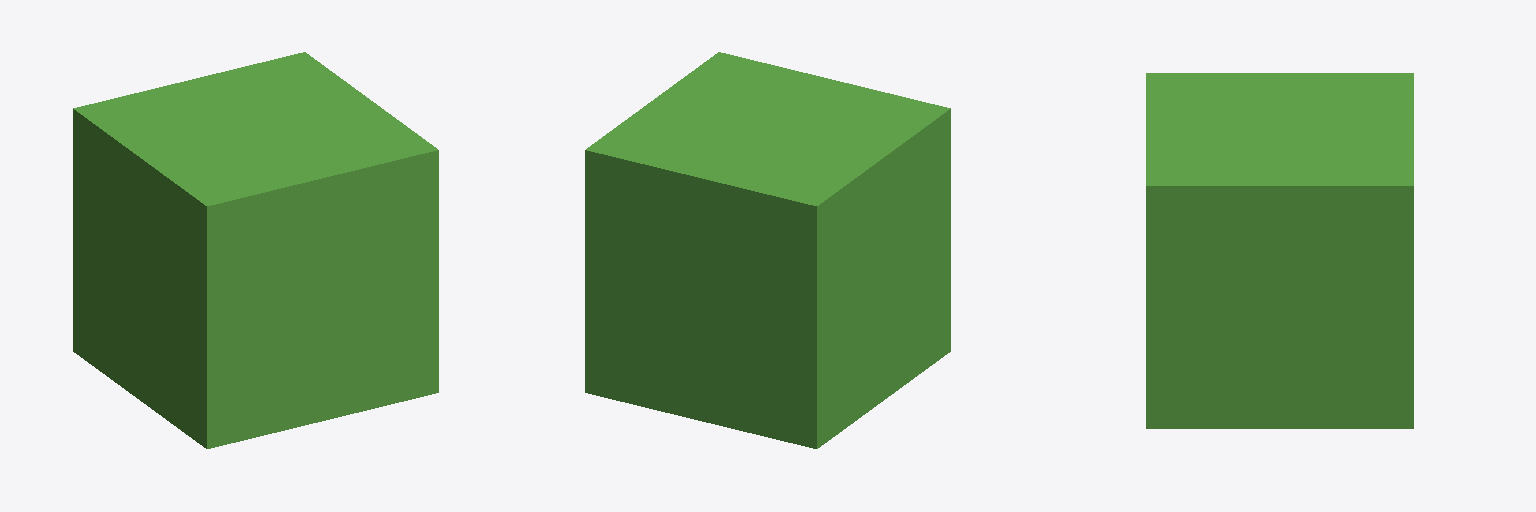
Rendered from SwitchBox.obj.
3 renders of one model, left to right at view 1: azimuth 30°, elevation 25°; view 2: azimuth 150°, elevation 25°; view 3: azimuth 270°, elevation 25°, orthographic.
Visible parts, largest first — view 1: Object.1; view 2: Object.1; view 3: Object.1.
Part boxes in pixels (left/top/right/bottom): Object.1: left=73, top=52, right=438, bottom=448; Object.1: left=585, top=52, right=950, bottom=448; Object.1: left=1146, top=73, right=1413, bottom=428.
Bounding box in the file's own units: 40 × 41.75 × 40.